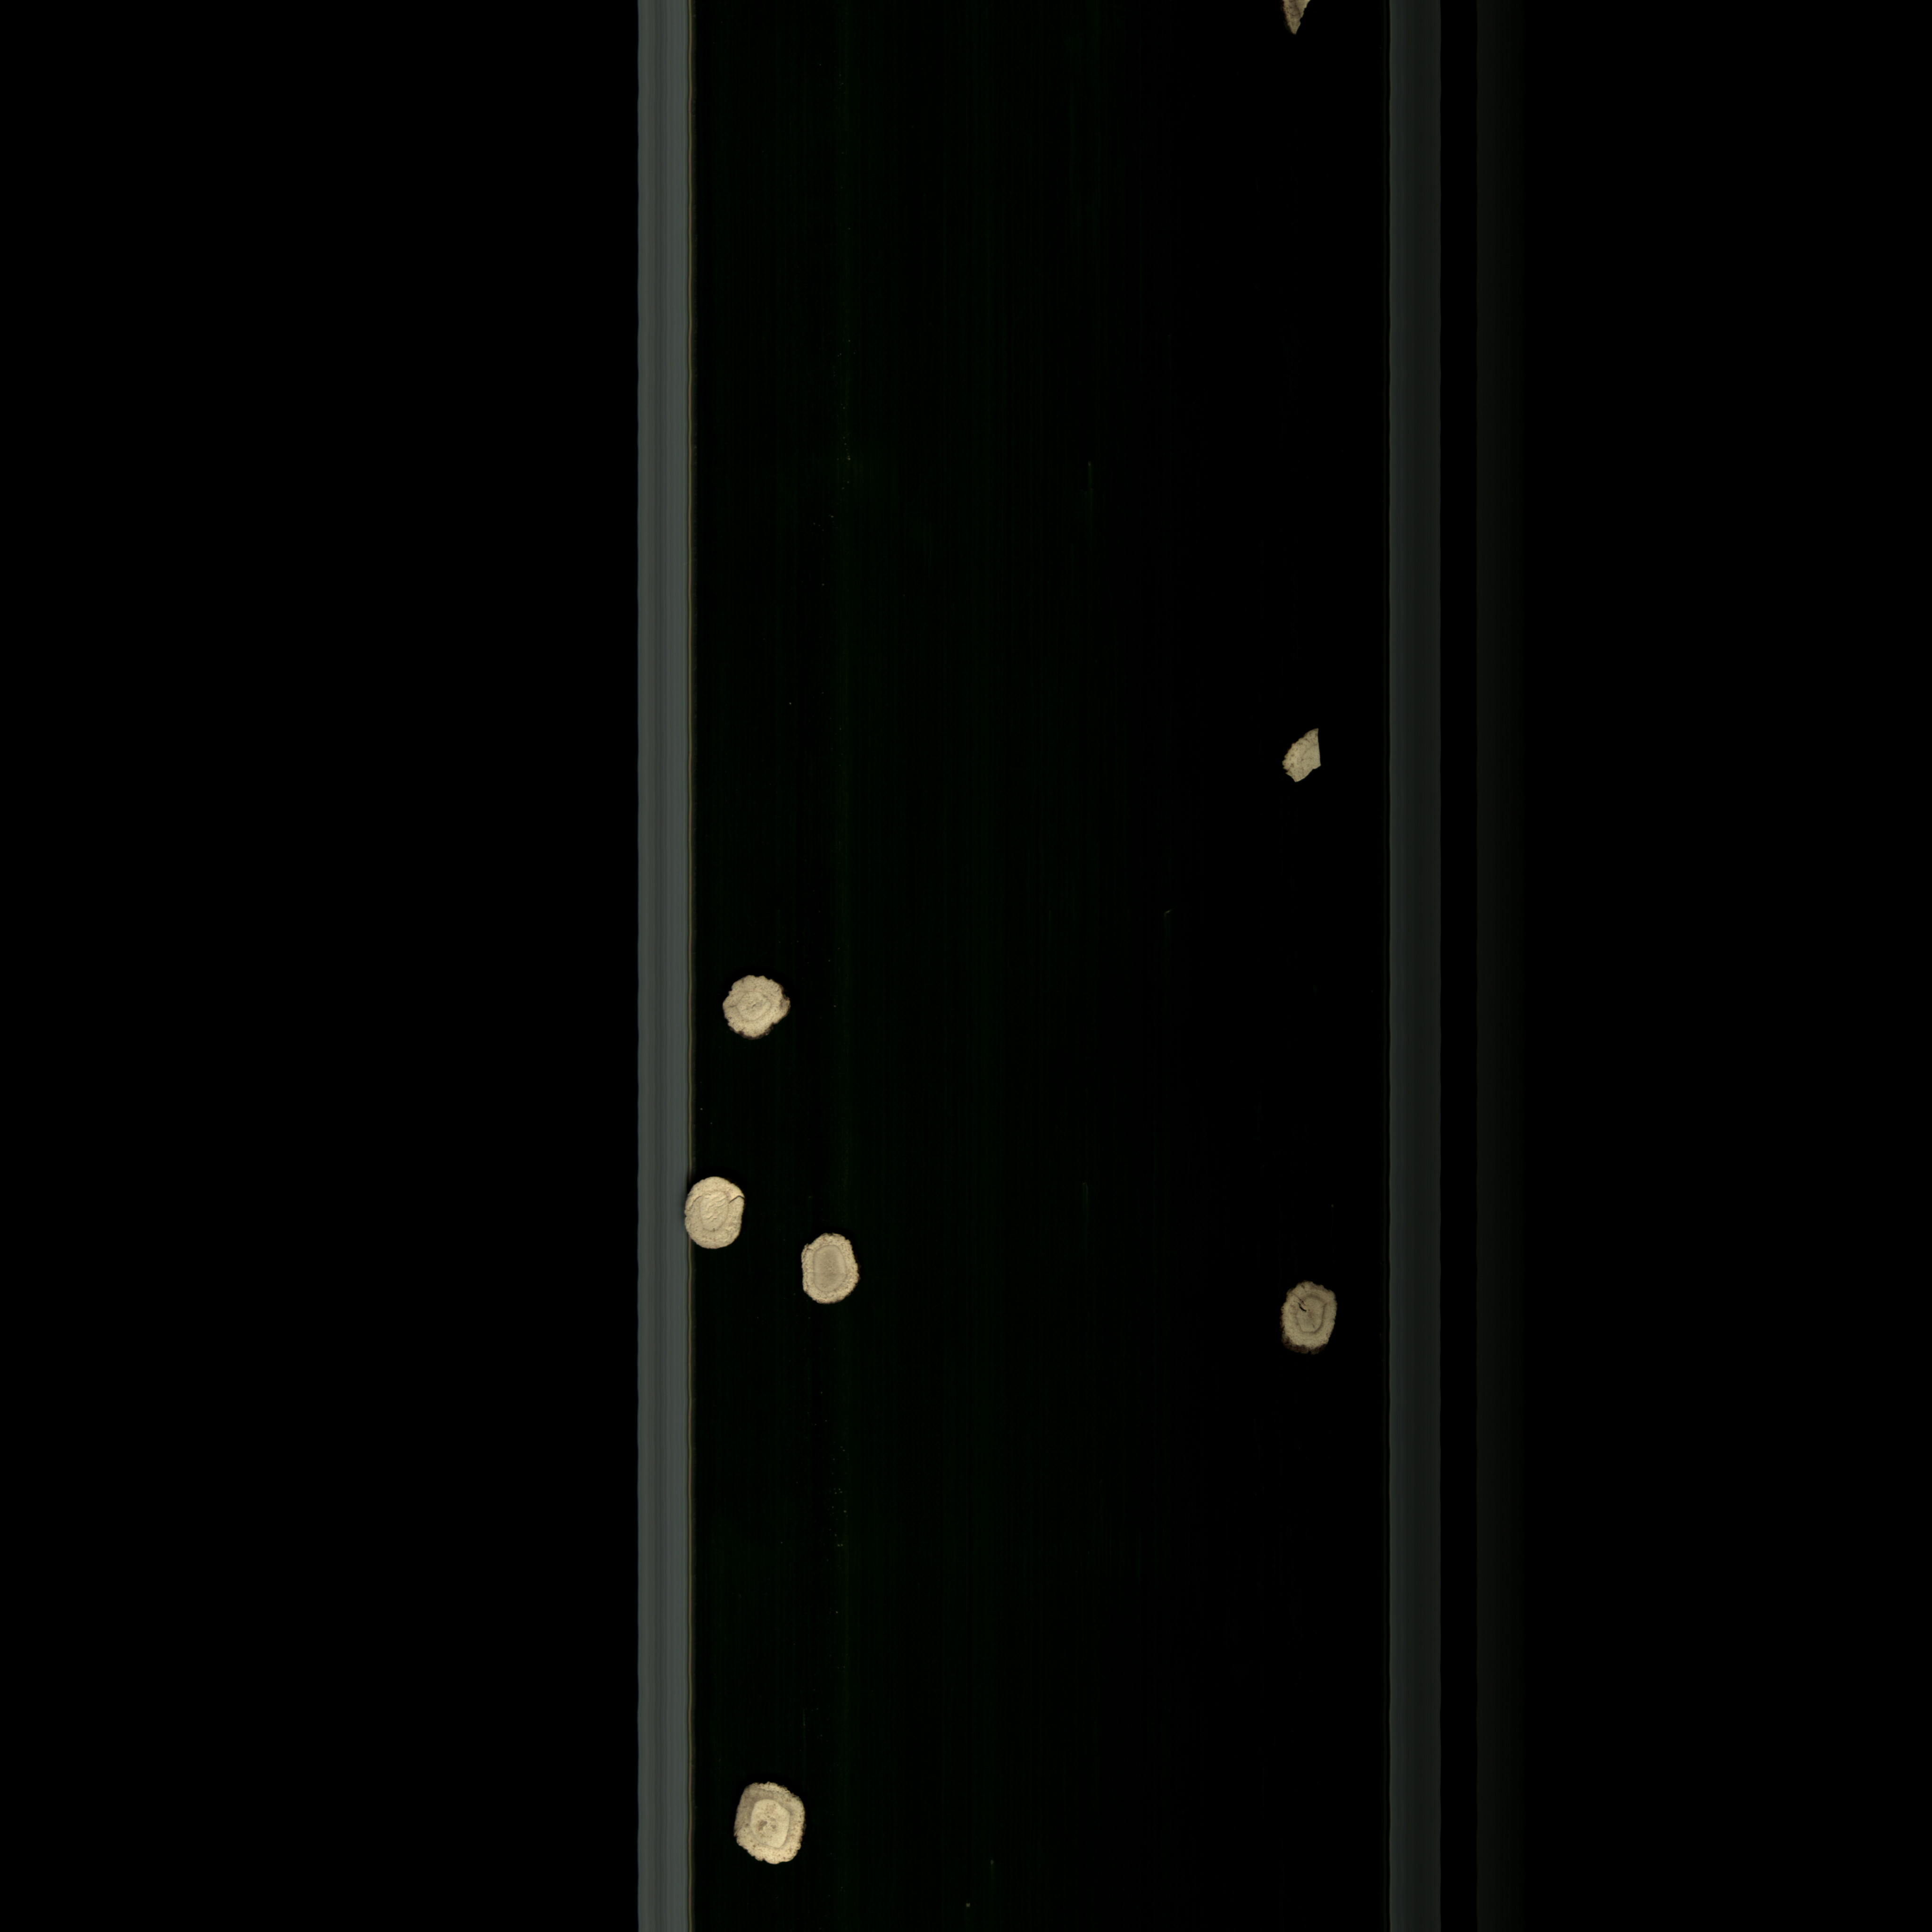distortion: (717, 1773, 823, 1879)
dreg: (1281, 720, 1338, 793)
hole: (1269, 1270, 1355, 1362)
